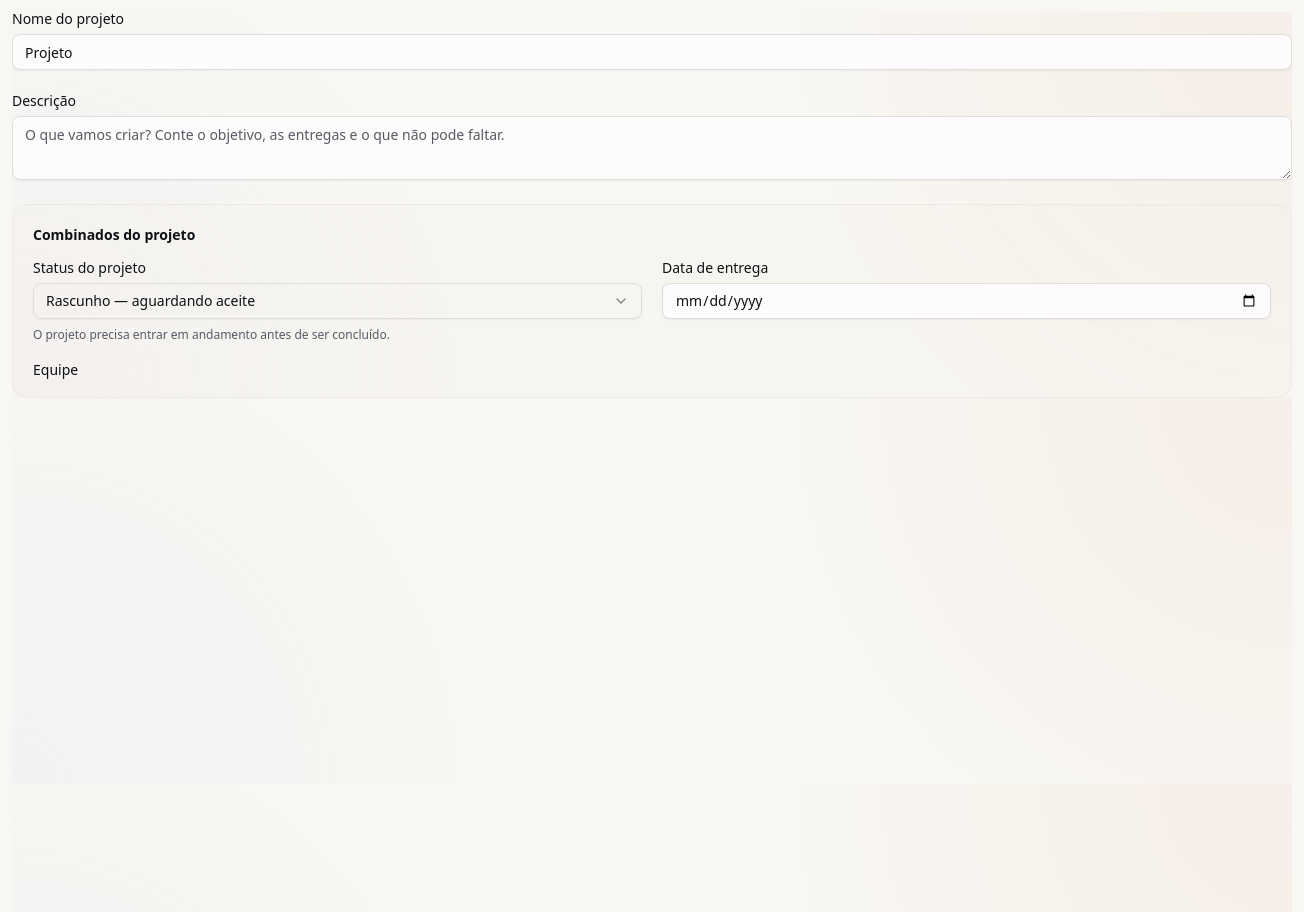
Test: rascunho não oferece concluir e mantém o status atual visível
Click the dropdown named "Status do projeto".
click(151, 300)  # box [33,283,642,319]
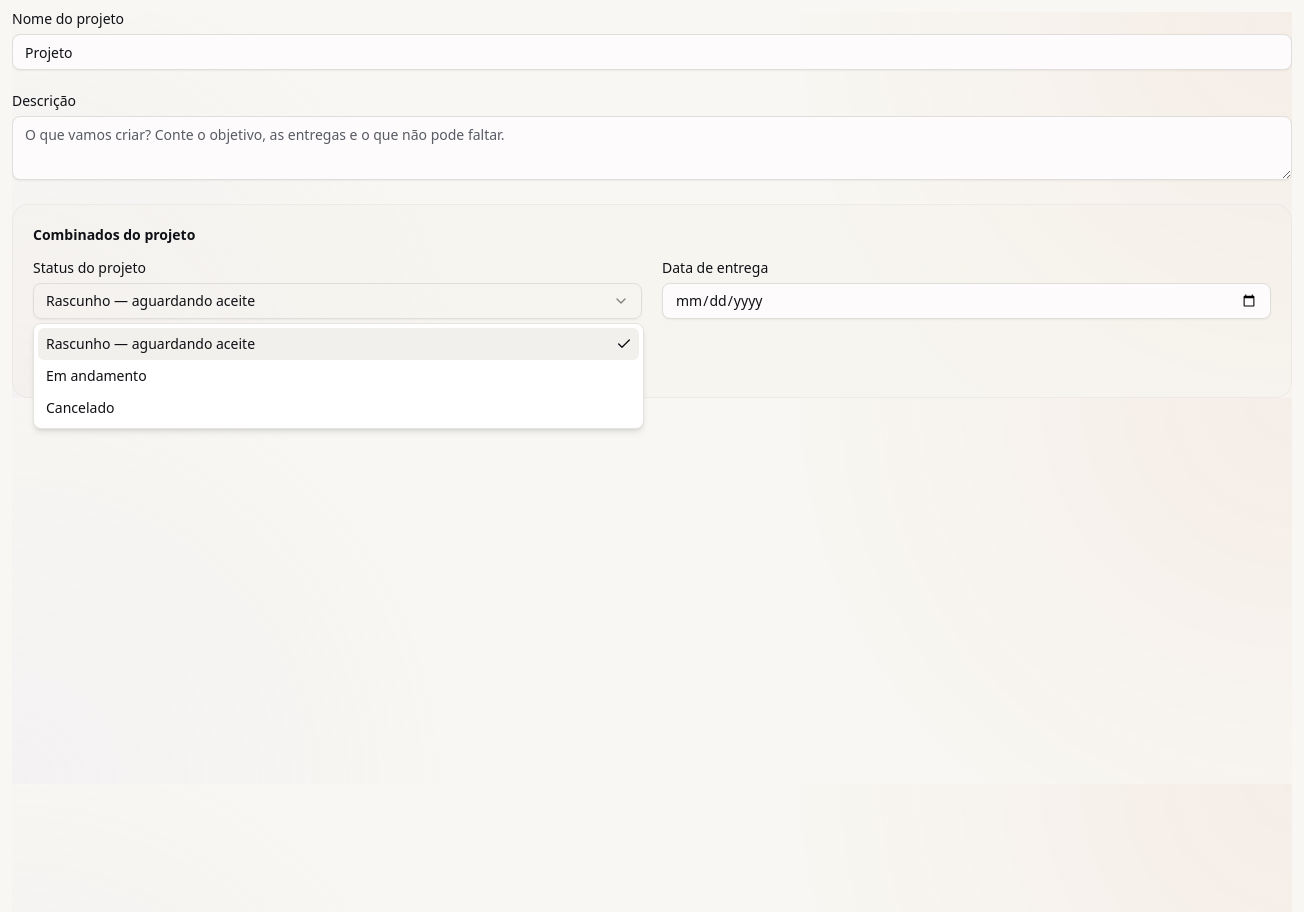
Check: the text "Rascunho — aguardando aceite" below "Status do projeto" is shown, box [46,291,255,310]
Check: the option "Em andamento" is shown, box [46,366,147,385]
